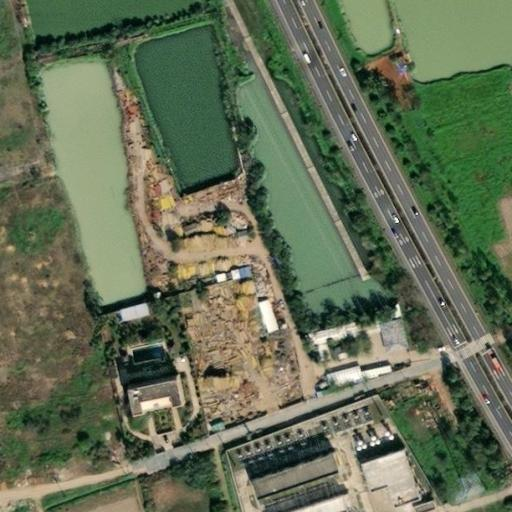building: (224, 387, 385, 467), (241, 451, 328, 498), (349, 444, 409, 501), (131, 379, 189, 420), (317, 363, 354, 387), (372, 320, 401, 350), (250, 299, 269, 331), (68, 308, 87, 336), (110, 302, 141, 318), (352, 363, 381, 378), (301, 329, 330, 343), (78, 360, 95, 381), (329, 324, 352, 338), (350, 321, 370, 335), (223, 265, 243, 278), (82, 377, 99, 392), (407, 501, 429, 512), (77, 345, 92, 359), (107, 450, 119, 463), (74, 337, 89, 345), (205, 273, 218, 282)
